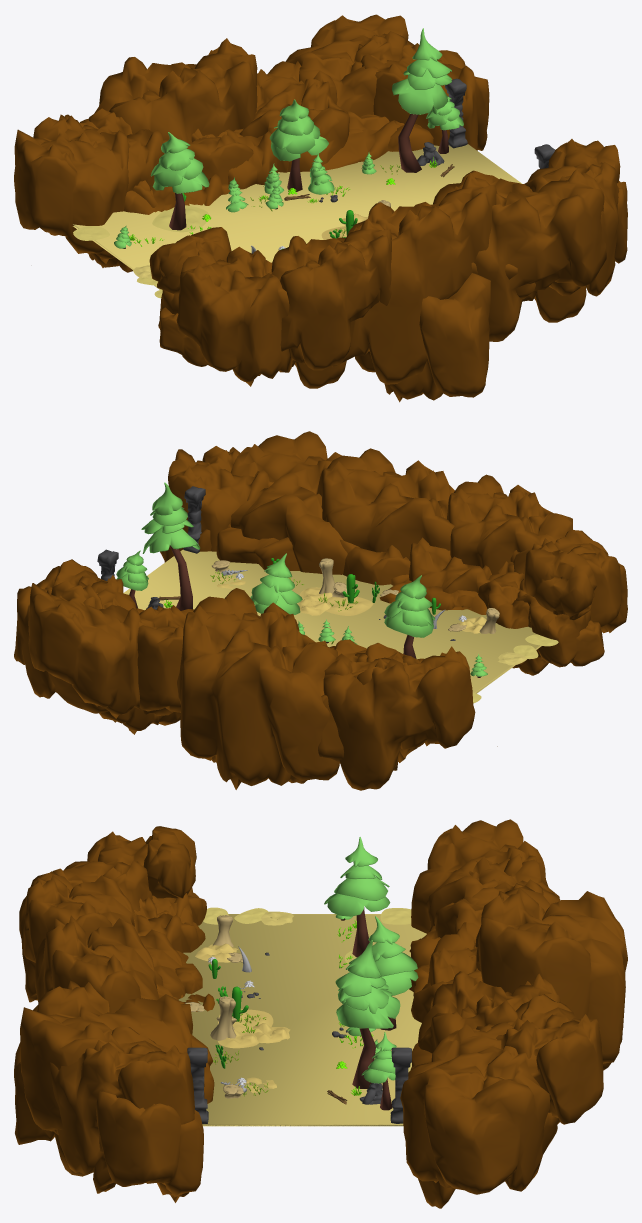
File: Zones 5.fbx
The picture shows the model from 3 angles, top to bottom: view 1: azimuth 30°, elevation 25°; view 2: azimuth 150°, elevation 25°; view 3: azimuth 270°, elevation 25°; orthographic projection. The views are drawn at different scales.
Visible parts, largest first — view 1: Zones.042, Zones.024, Zones.051, Zones.052, Zones.045, Zones.053, Zones.050; view 2: Zones.042, Zones.024, Zones.051, Zones.047, Zones.045, Zones.044, Zones.052, Zones.050, Zones.041; view 3: Zones.042, Zones.024, Zones.051, Zones.045, Zones.047, Zones.044, Zones.052, Zones.050, Zones.041.
Boxes of the visible parts, x1,y1,x2,y2 form: Zones.042: (14,14,627,402); Zones.024: (73,144,521,289); Zones.051: (114,28,463,248); Zones.052: (123,114,448,248); Zones.045: (319,78,555,202); Zones.053: (152,205,208,232); Zones.050: (73,226,162,298); Zones.042: (14,431,627,790); Zones.024: (123,549,541,693); Zones.051: (116,482,487,676); Zones.047: (217,577,486,633); Zones.045: (97,486,455,640); Zones.044: (212,558,499,633); Zones.052: (129,545,480,677); Zones.050: (472,634,558,703); Zones.041: (267,558,440,614); Zones.042: (14,819,627,1208); Zones.024: (178,911,426,1126); Zones.051: (324,837,418,1083); Zones.045: (187,952,411,1123); Zones.047: (195,943,290,1092); Zones.044: (185,915,243,1098); Zones.052: (340,907,396,1110); Zones.050: (203,907,411,924); Zones.041: (208,959,248,1068).
Size of the model in its own units: 13185 by 12418 by 6281.
